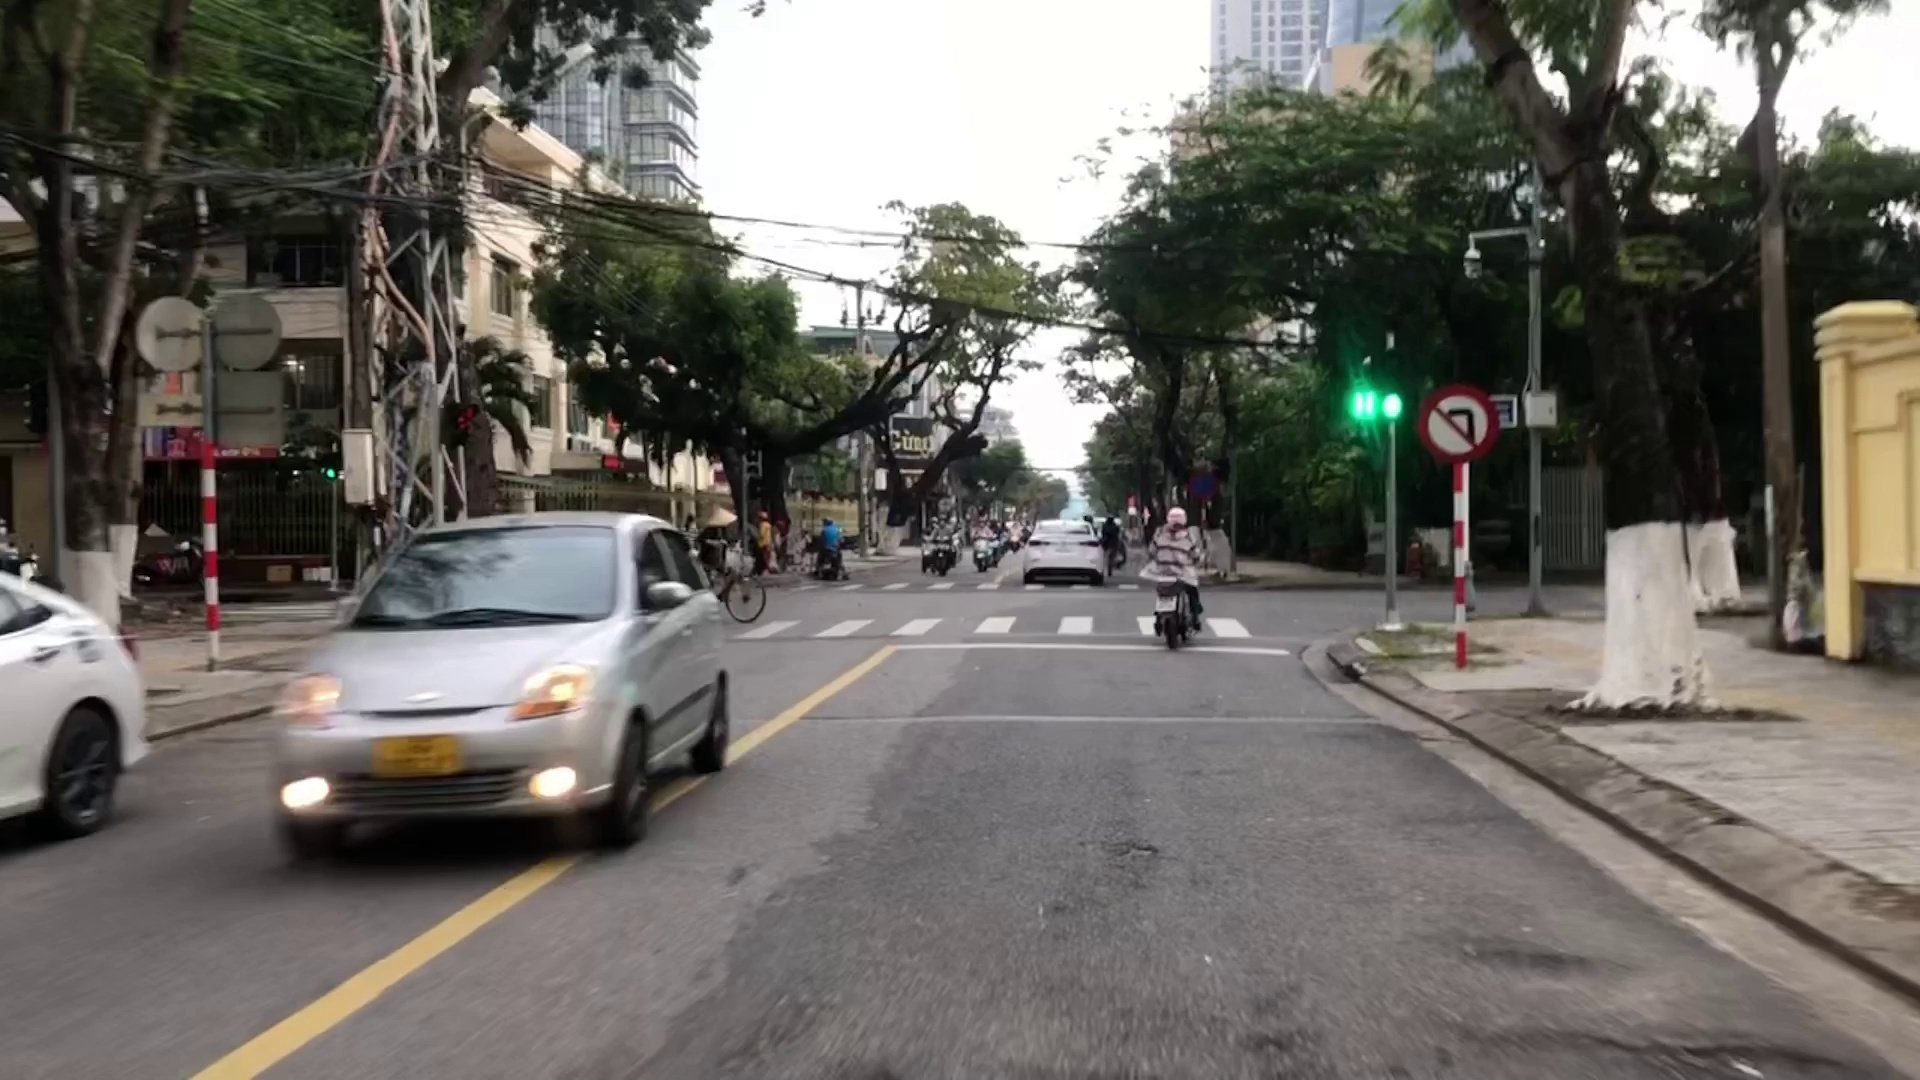Bien khac: (1422, 384, 1497, 459)
